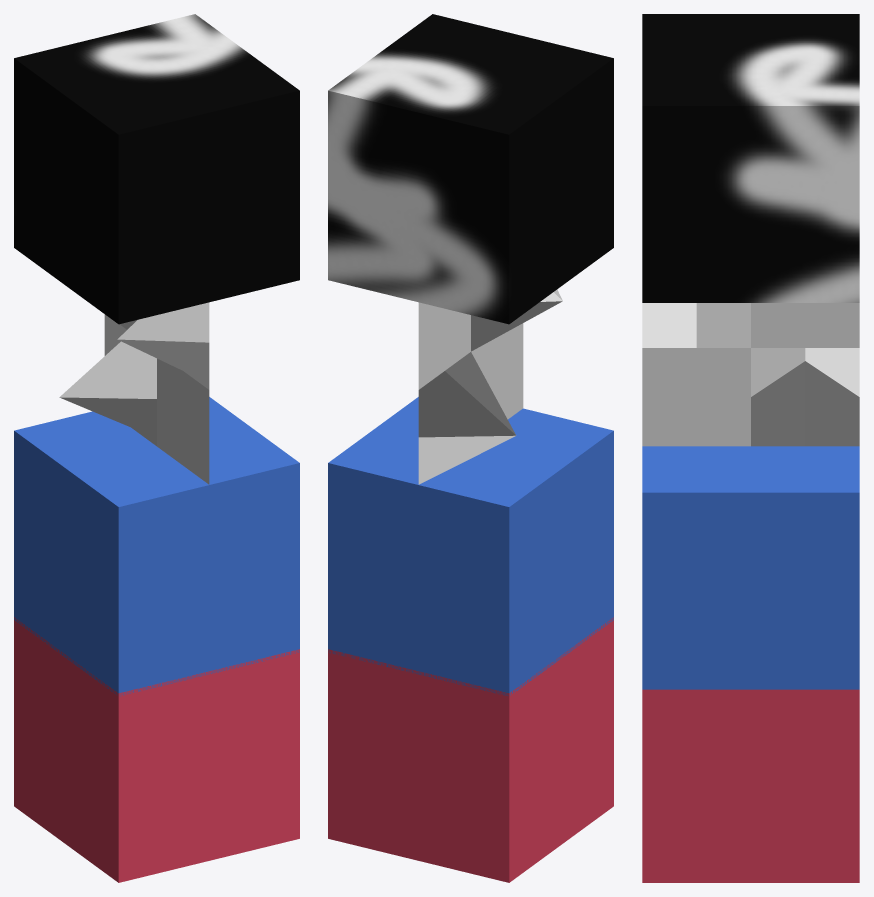
The model's file is cubesAnim.glb.
The picture shows the model from 3 angles, left to right: view 1: azimuth 30°, elevation 25°; view 2: azimuth 150°, elevation 25°; view 3: azimuth 270°, elevation 25°; orthographic projection. The views are drawn at different scales.
Parts seen in each view (by area): view 1: Cube.002, Cube.001, Cube, Plane; view 2: Cube.002, Cube.001, Cube, Plane; view 3: Cube.002, Cube.001, Cube, Plane.
Part boxes in pixels (left/top/right/bottom): Cube.002: left=14, top=14, right=299, bottom=324; Cube.001: left=14, top=397, right=299, bottom=696; Cube: left=14, top=617, right=299, bottom=882; Plane: left=59, top=302, right=209, bottom=484; Cube.002: left=328, top=14, right=613, bottom=324; Cube.001: left=328, top=397, right=613, bottom=695; Cube: left=328, top=617, right=613, bottom=882; Plane: left=418, top=289, right=562, bottom=484; Cube.002: left=642, top=14, right=859, bottom=302; Cube.001: left=642, top=446, right=859, bottom=689; Cube: left=642, top=689, right=859, bottom=882; Plane: left=642, top=303, right=859, bottom=446.
Bounding box in the file's own units: 2 × 7.89 × 2.
4 materials, 1 textured.
